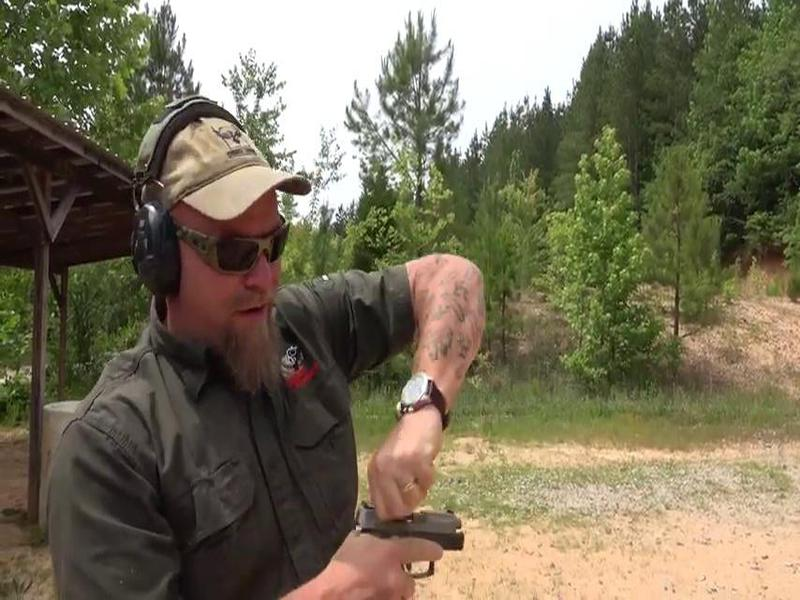Pistola: (315, 480, 476, 593)
